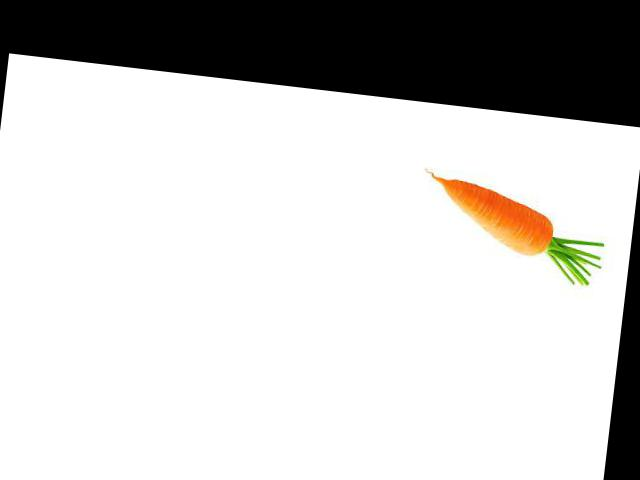carrot: (426, 169, 565, 260)
